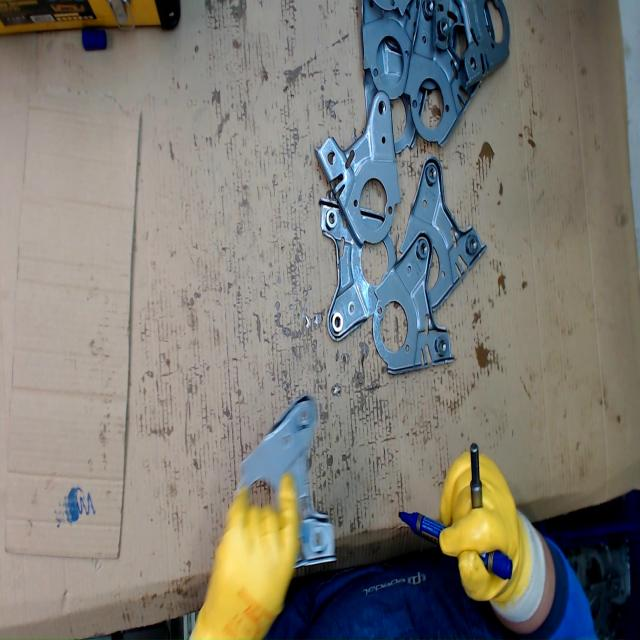hands: (183, 474, 299, 640), (436, 448, 532, 604)
